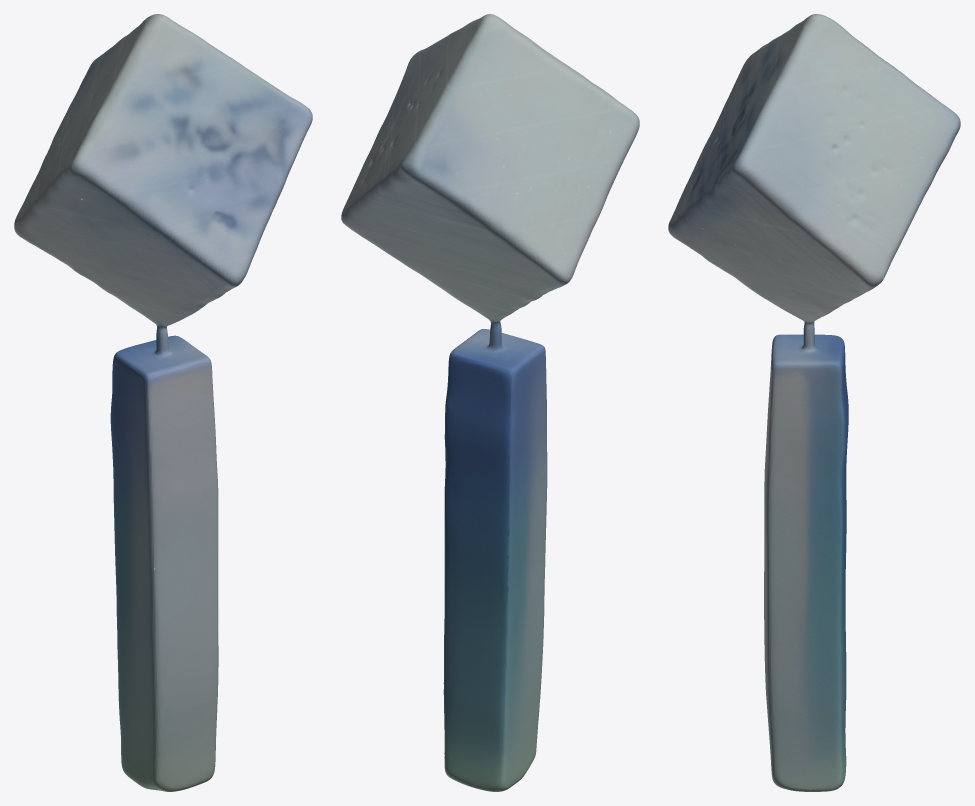
The model's file is collectible_4_kaj_kocka.glb.
The picture shows the model from 3 angles, left to right: view 1: azimuth 30°, elevation 25°; view 2: azimuth 150°, elevation 25°; view 3: azimuth 270°, elevation 25°; orthographic projection.
Parts seen in each view (by area): view 1: tripo_node_15a11026-62a3-426d-ba27-ee328e5cf3e7; view 2: tripo_node_15a11026-62a3-426d-ba27-ee328e5cf3e7; view 3: tripo_node_15a11026-62a3-426d-ba27-ee328e5cf3e7.
Part boxes in pixels (x1,y1,x2,y2): tripo_node_15a11026-62a3-426d-ba27-ee328e5cf3e7: (14,14,312,791); tripo_node_15a11026-62a3-426d-ba27-ee328e5cf3e7: (341,14,639,791); tripo_node_15a11026-62a3-426d-ba27-ee328e5cf3e7: (668,14,960,791).
Bounding box in the file's own units: 0.327 × 1 × 0.3474.
Materials: 1 (1 with a texture image).
